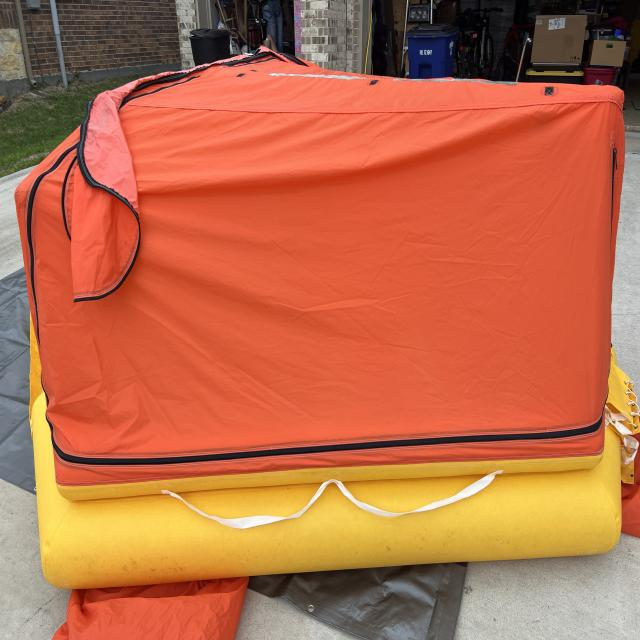Multi-person_life_raft: (14, 43, 639, 639)
